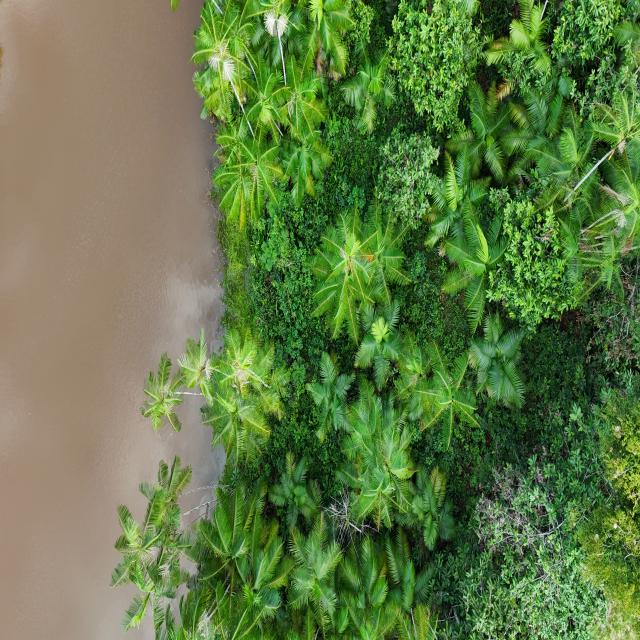vegetation: (109, 1, 638, 638)
